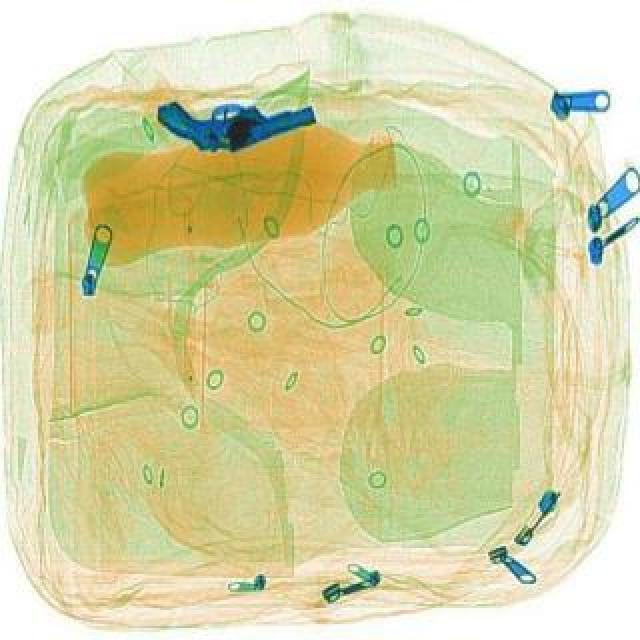gun: (154, 92, 314, 156)
